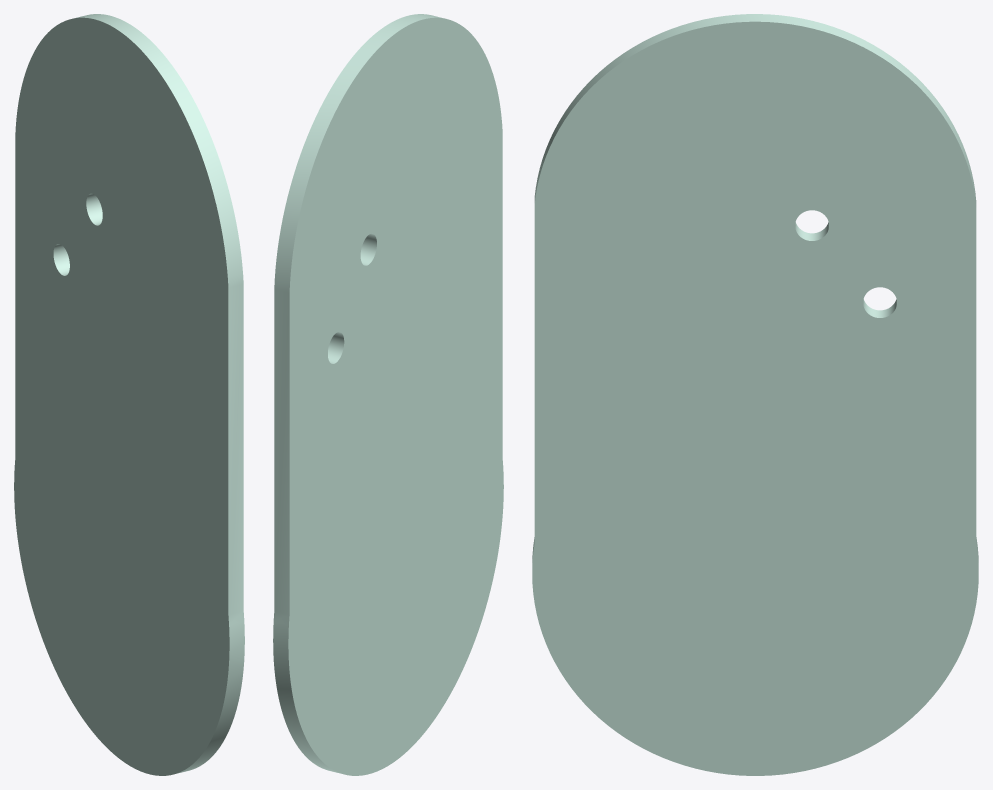
3 views of the same model, side by side, from view 1: azimuth 30°, elevation 25°; view 2: azimuth 150°, elevation 25°; view 3: azimuth 270°, elevation 25° (orthographic). The views are drawn at different scales.
Parts seen in each view (by area): view 1: Renderer Node; view 2: Renderer Node; view 3: Renderer Node.
Boxes of the visible parts, x1=… form: Renderer Node: x1=14, y1=14, x2=244, y2=775; Renderer Node: x1=273, y1=14, x2=503, y2=775; Renderer Node: x1=532, y1=14, x2=978, y2=775.
Size of the model in its own units: 0.0391 by 1.78 by 0.9532.
